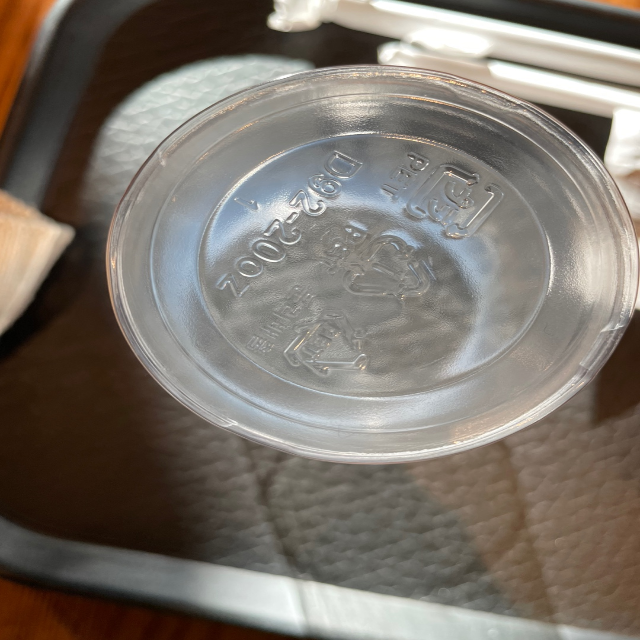pet: (233, 276, 379, 384), (371, 139, 506, 241), (313, 216, 440, 302)
